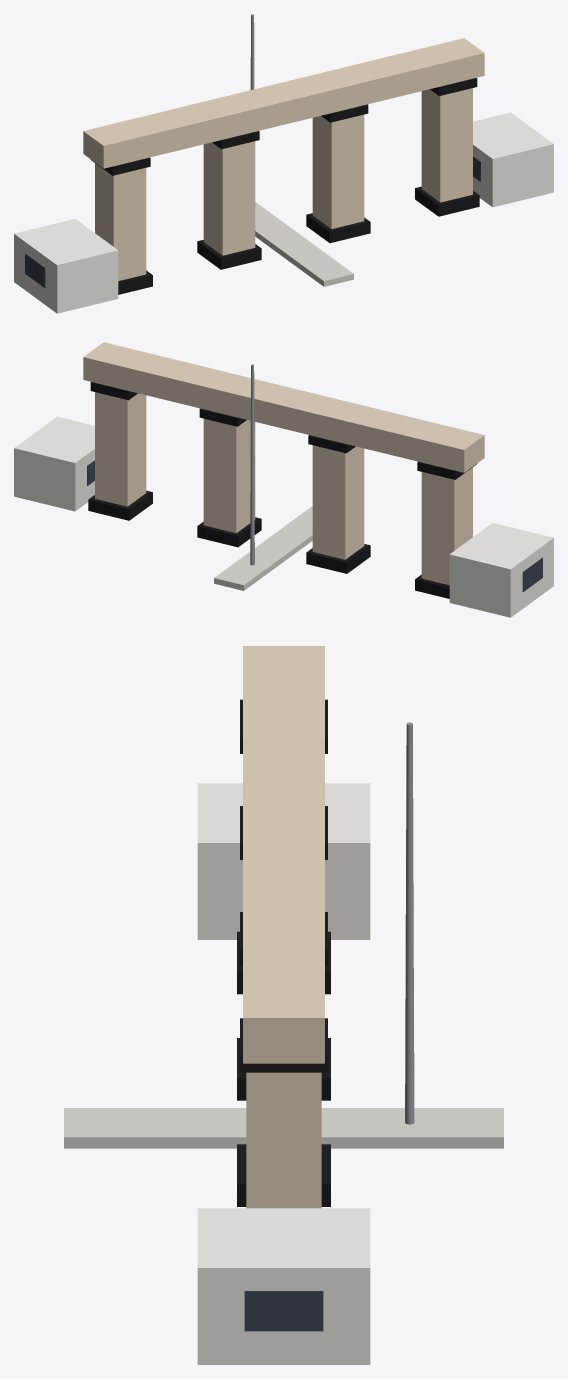
Rendered from main-gate.glb.
3 views of the same model, one above another, from view 1: azimuth 30°, elevation 25°; view 2: azimuth 150°, elevation 25°; view 3: azimuth 270°, elevation 25° (orthographic). The views are drawn at different scales.
Visible parts, largest first — view 1: Main_Gate_1_GT_Road; view 2: Main_Gate_1_GT_Road; view 3: Main_Gate_1_GT_Road.
Boxes of the visible parts, x1,y1,x2,y2 form: Main_Gate_1_GT_Road: (14,14,553,313); Main_Gate_1_GT_Road: (14,342,553,617); Main_Gate_1_GT_Road: (64,646,503,1364).
Size of the model in its own units: 36.6 by 14.4 by 14.
